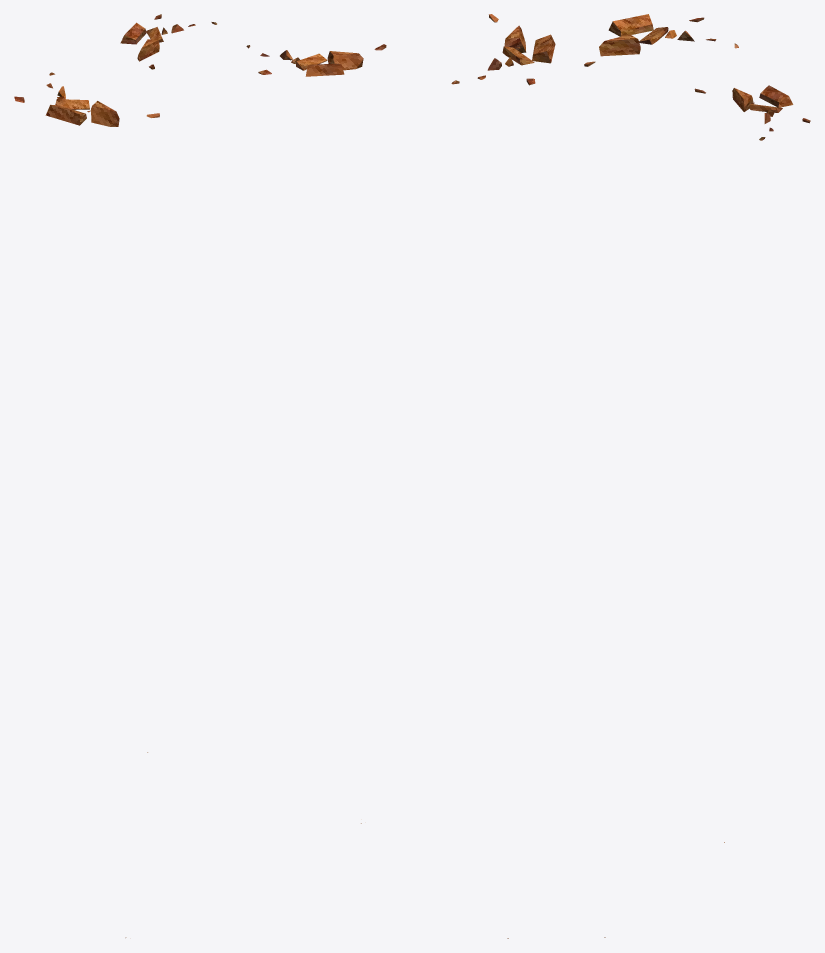
File: debris.glb
3 renders of one model, left to right at view 1: azimuth 30°, elevation 25°; view 2: azimuth 150°, elevation 25°; view 3: azimuth 270°, elevation 25°, orthographic. The views are drawn at different scales.
Visible parts, largest first — view 1: Debris; view 2: Debris; view 3: Debris.
Part boxes in pixels (x1=…): Debris: x1=14, y1=14, x2=216, y2=937; Debris: x1=246, y1=14, x2=555, y2=938; Debris: x1=584, y1=14, x2=810, y2=937.
Size of the model in its own units: 12.37 by 42.43 by 9.74.
Materials: 1 (1 with a texture image).
